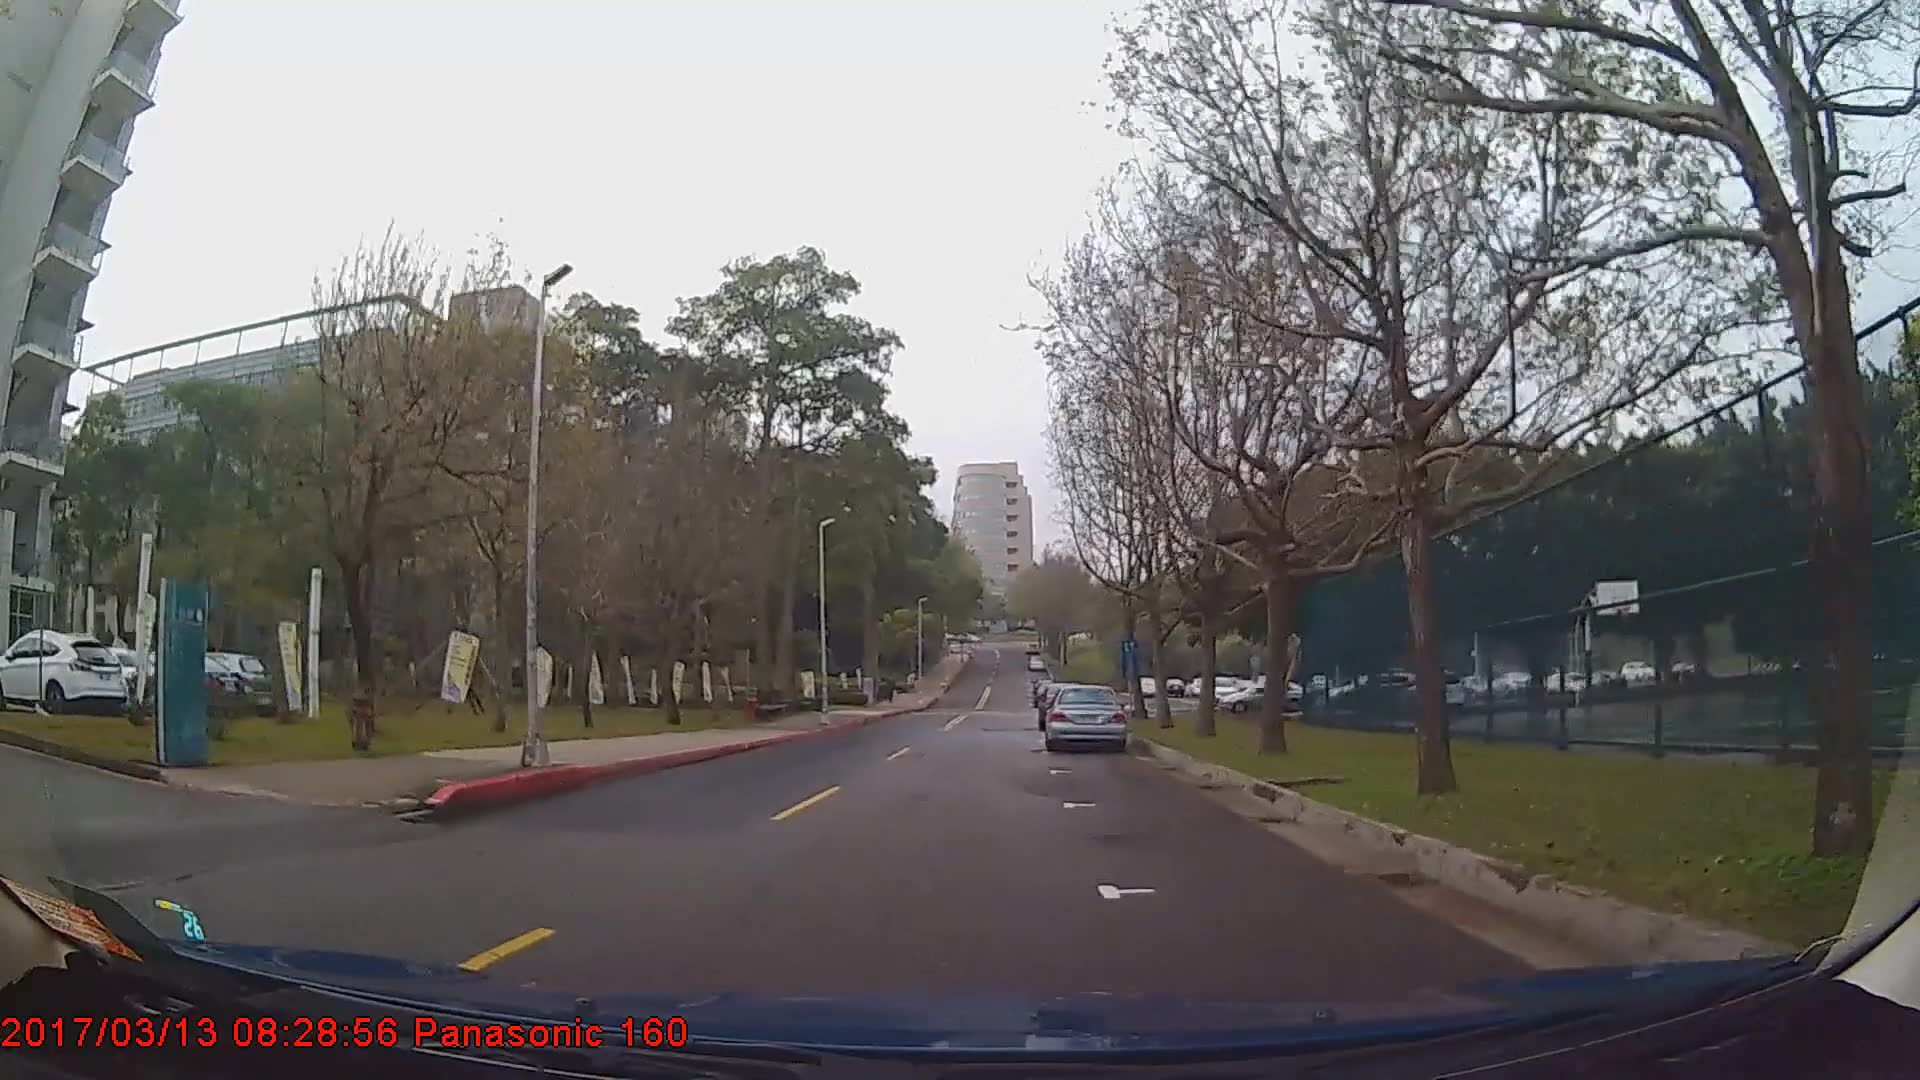vehicle: (0, 626, 123, 715), (51, 642, 171, 711), (1044, 684, 1127, 754), (204, 650, 277, 716)
